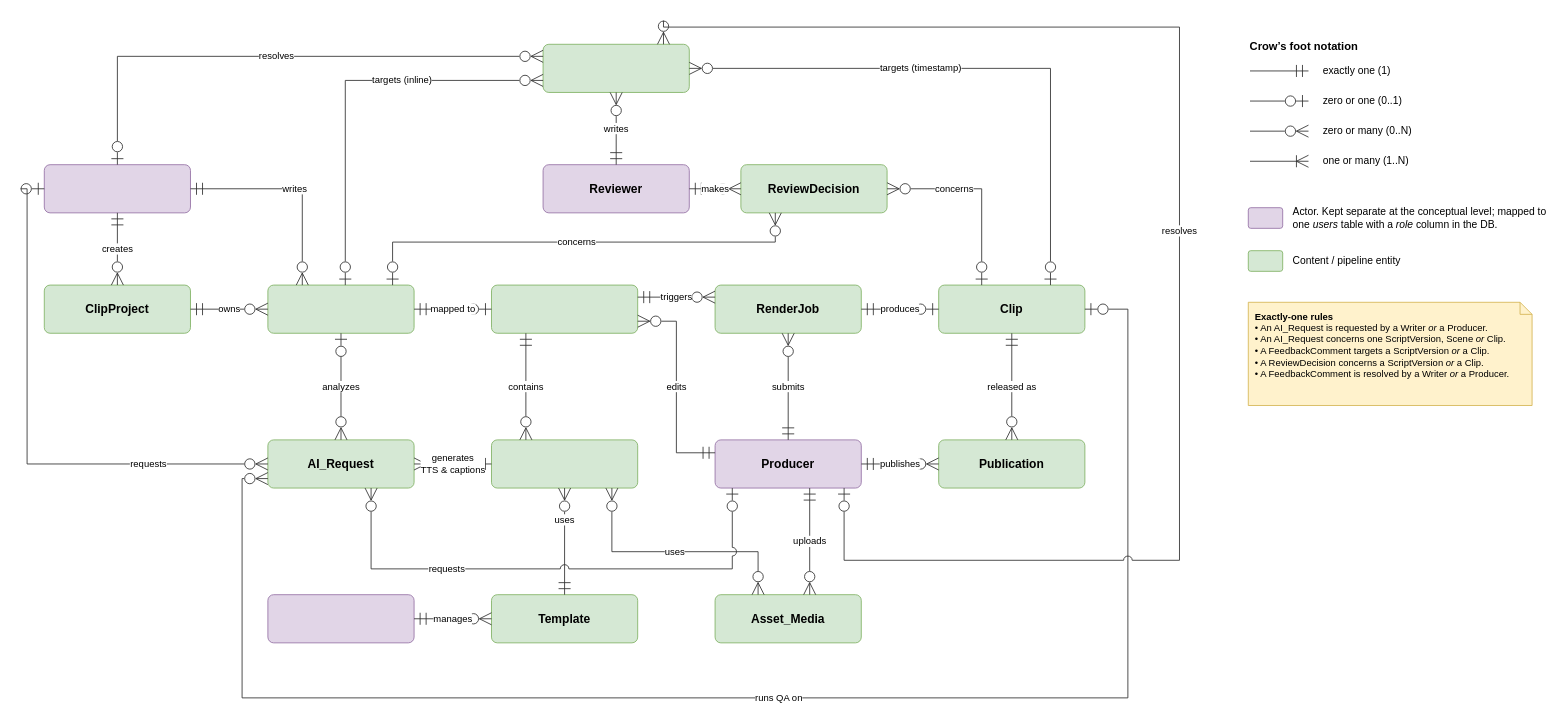
This 1564x726 diagram has some shape labels left out. Here are the shapes that lost their labels. From the top down, the centre of each, then its label:
At [615,67]: "FeedbackComment".
At [116,188]: "Writer".
At [340,308]: "ScriptVersion".
At [564,308]: "Composition".
At [564,463]: "Scene".
At [340,618]: "Admin".
